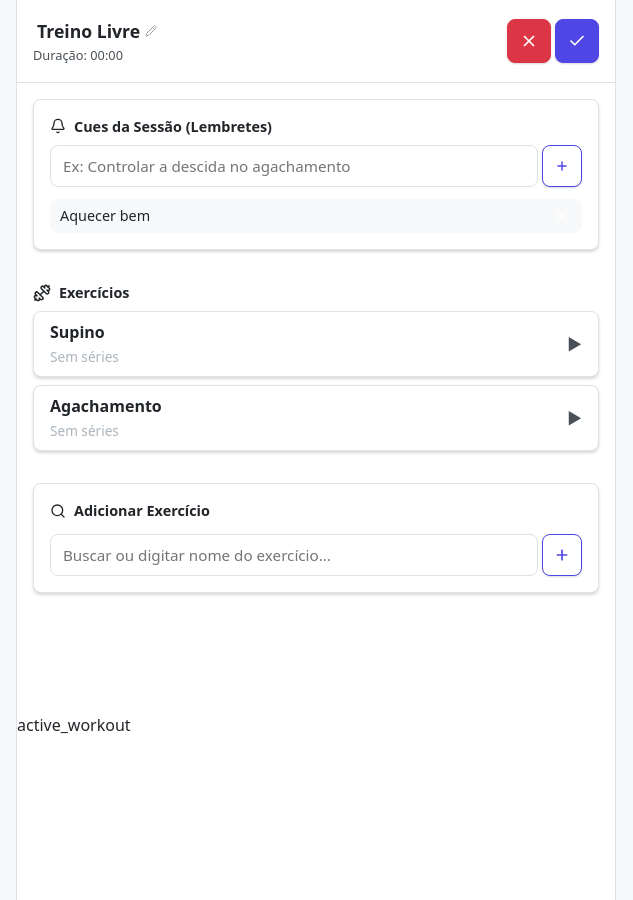
Test: ActiveWorkoutView — detalhe do exercício › navega entre exercícios anteriores e próximos
The image size is (633, 900).
Click the button "Supino Sem séries ▶" at x=77, y=332, box [33,311,599,377]
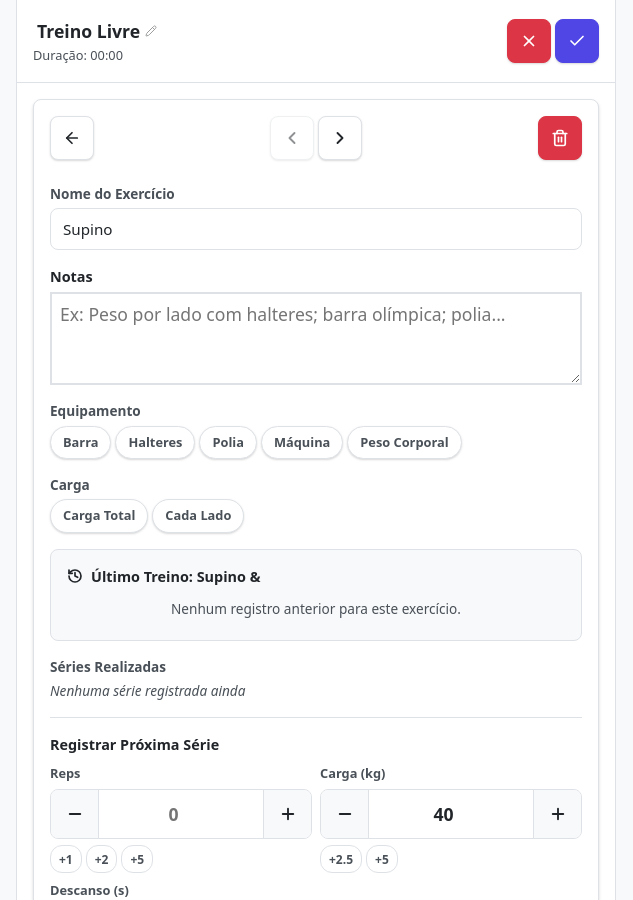
Expected: the button named "Ir para exercício anterior" is disabled, [270,116,314,160]
Click the button named "Ir para próximo exercício" at x=340, y=138, box [318,116,362,160]
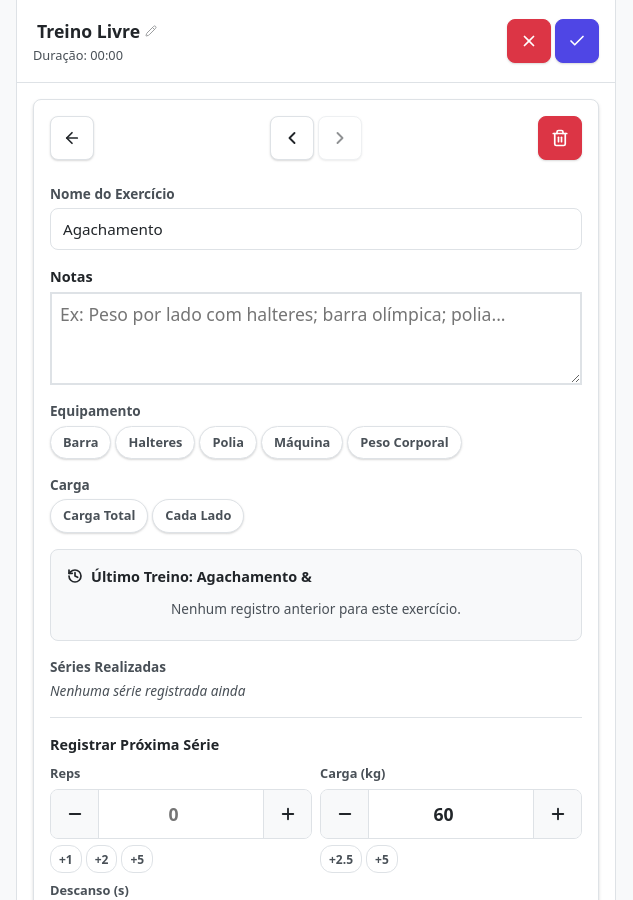
Expected: the field showing "Agachamento" is shown, [50,208,582,250]
Expected: the button named "Ir para exercício anterior" is enabled, [270,116,314,160]
Expected: the button named "Ir para próximo exercício" is disabled, [318,116,362,160]
